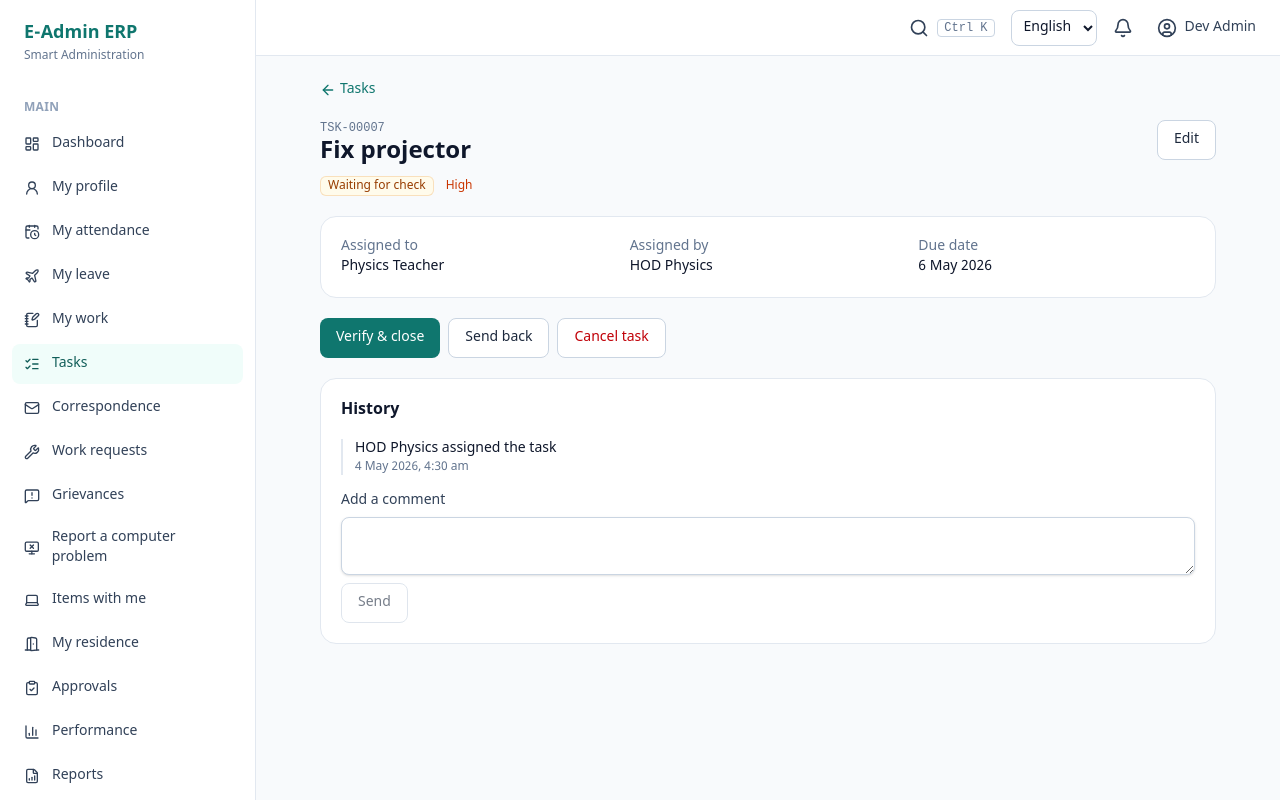
phase 5 screens › task page offers only the server’s actions; sending back needs a reason
Click the button "Send back". click: (499, 338)
box: [448,318,550,358]
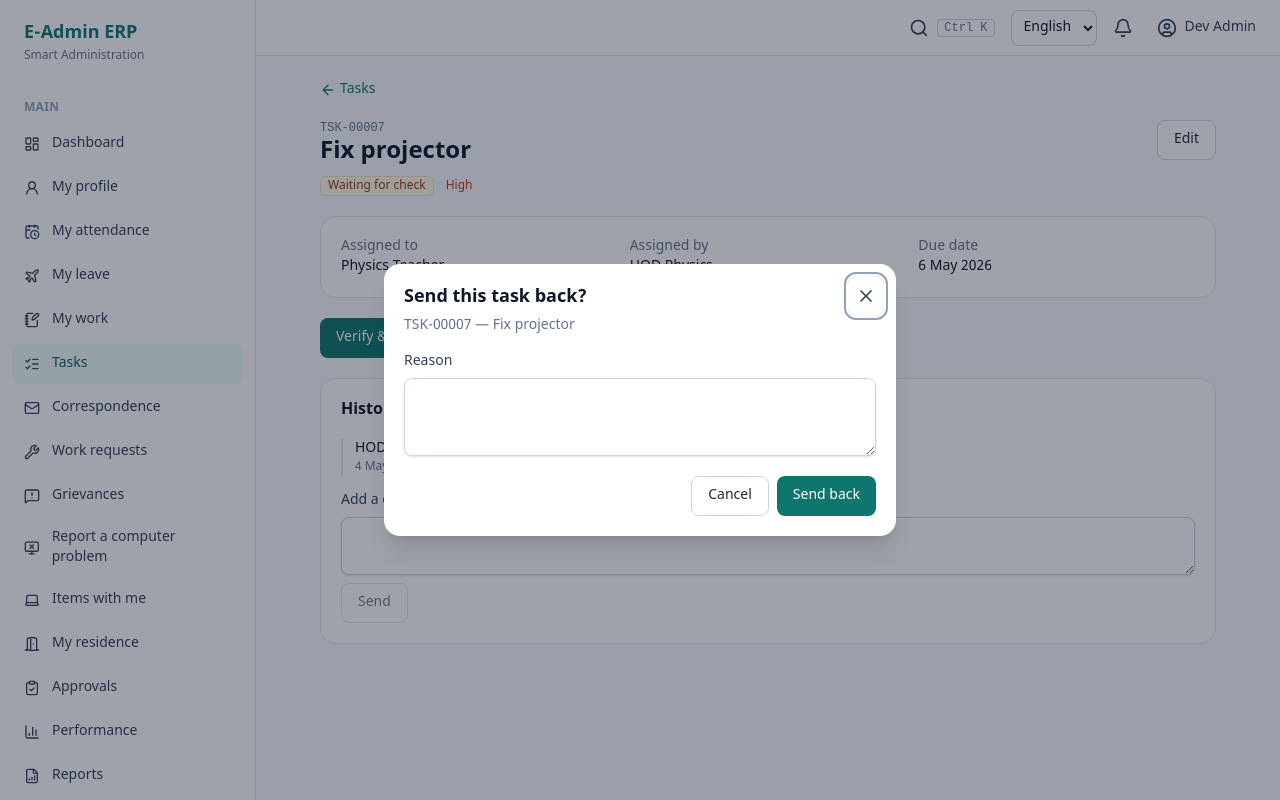
Click the button "Send back". click: (826, 496)
box: [777,476,876,516]
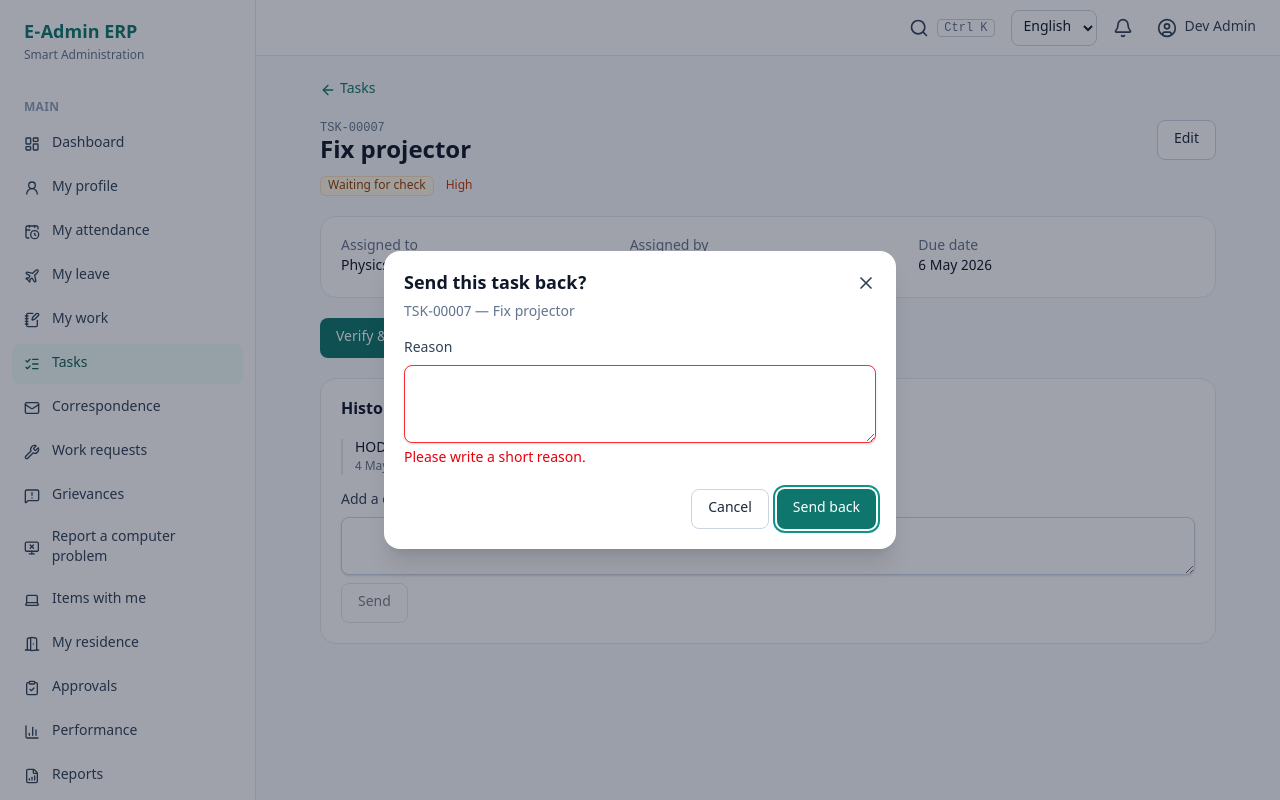
Now the text "Please write a short reason." is shown, box [404,449,586,468]
Type "Remote missing" into the text box labelled "Reason". click: (640, 404)
box: [404,365,876,443]
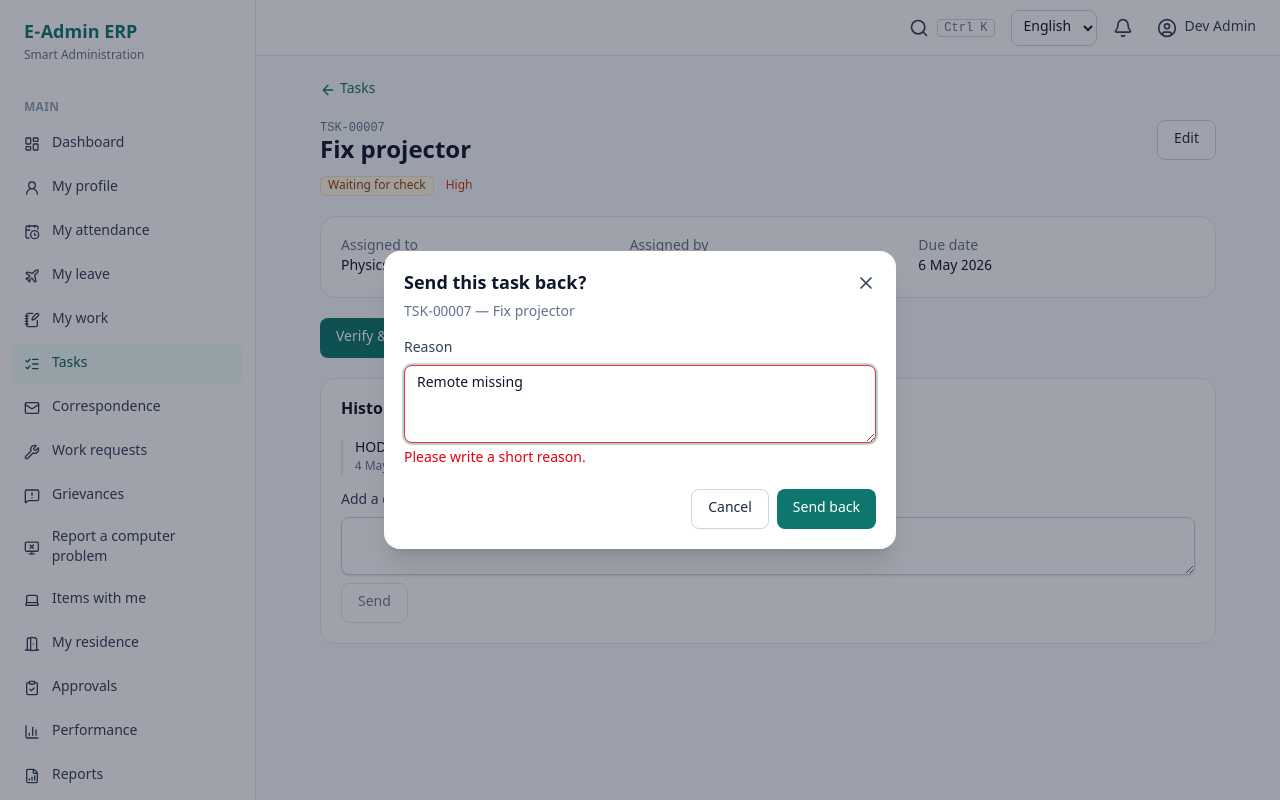
Click the button "Send back". click: (826, 509)
box: [777,489,876,529]
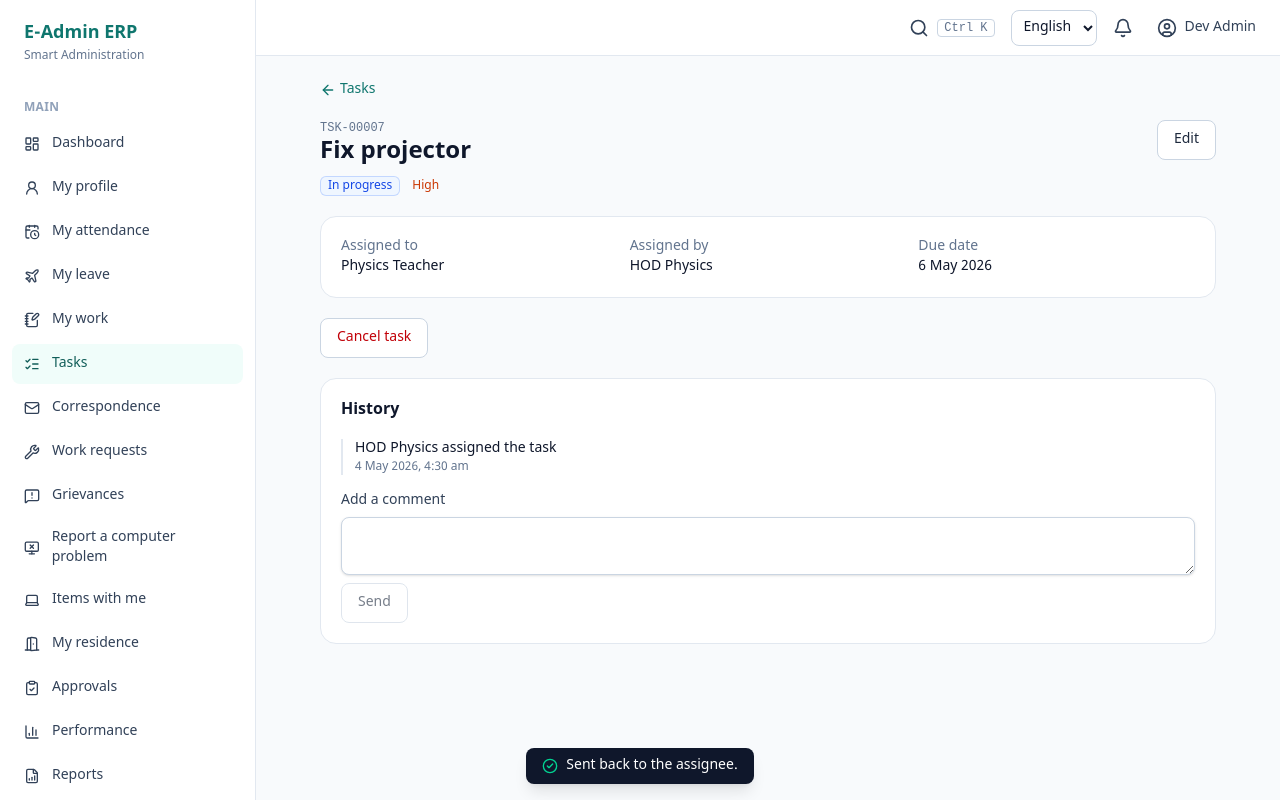
Now the text "In progress" is shown, box [320,176,400,196]
